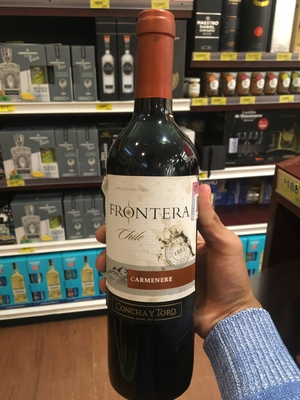frontera carmenere: (102, 10, 206, 386)
